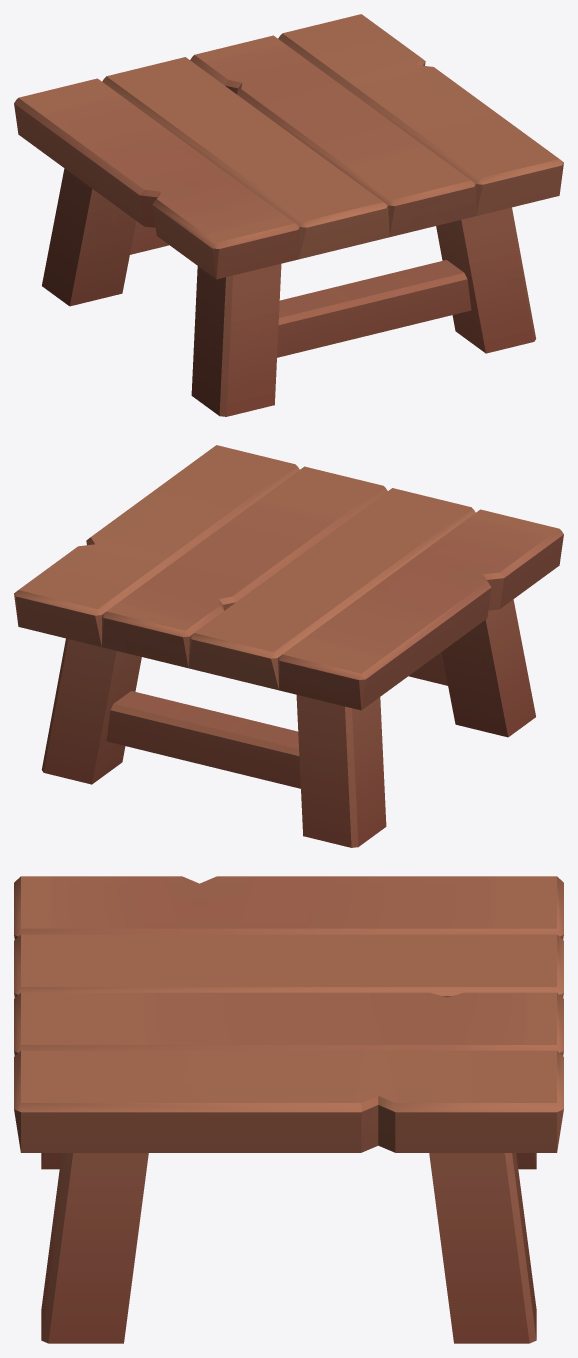
Rendered from table-medium-gltf.glb.
The picture shows the model from 3 angles, top to bottom: view 1: azimuth 30°, elevation 25°; view 2: azimuth 150°, elevation 25°; view 3: azimuth 270°, elevation 25°; orthographic projection. The views are drawn at different scales.
Parts seen in each view (by area): view 1: table_medium; view 2: table_medium; view 3: table_medium.
Boxes of the visible parts, <box> form: table_medium: <box>14,14,563,416</box>; table_medium: <box>14,445,563,847</box>; table_medium: <box>14,876,563,1343</box>.
Size of the model in its own units: 2 by 0.9998 by 2.
1 material, 1 textured.
